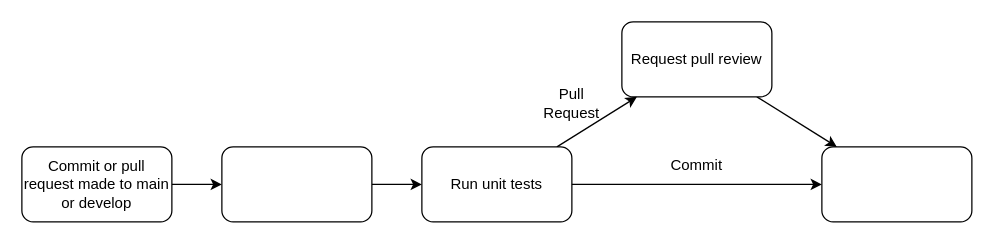
Image size: 994x244. Some labels were removed from this diagram. The shapes that lost their labels are listed below. From the top down, each one's centre as x and y in pixels, then its label:
At point 296,184: "Run ESLint on all Javascript files".
At point 896,184: "Changes pushed to main".
